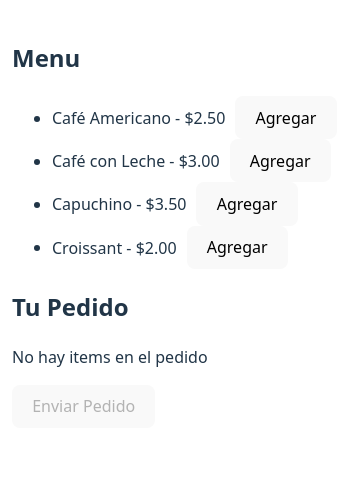
Test: HU5 - Enviar pedido › debe enviar el pedido y mostrar mensaje de confirmación
Check: the list item "Café Americano - $2.50 Agregar" is shown, box [52, 96, 336, 139]
Click the button "Agregar" in the row of "Café Americano". click: (286, 118)
box: [235, 96, 336, 139]
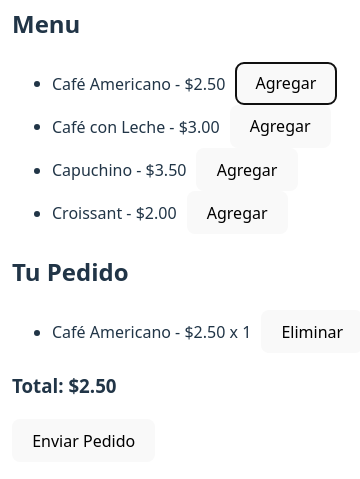
Check: the button "Enviar Pedido" is enabled
Click the button "Enviar Pedido". click: (84, 440)
box: [12, 419, 155, 462]
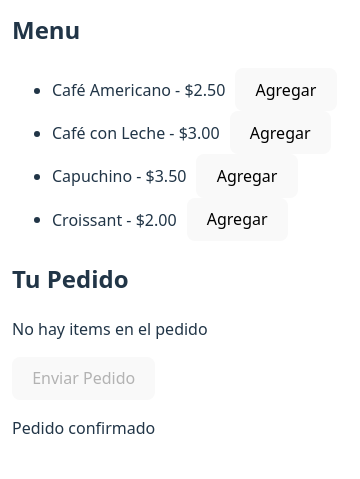
Check: the text "Pedido confirmado" is shown, box [12, 417, 155, 439]
